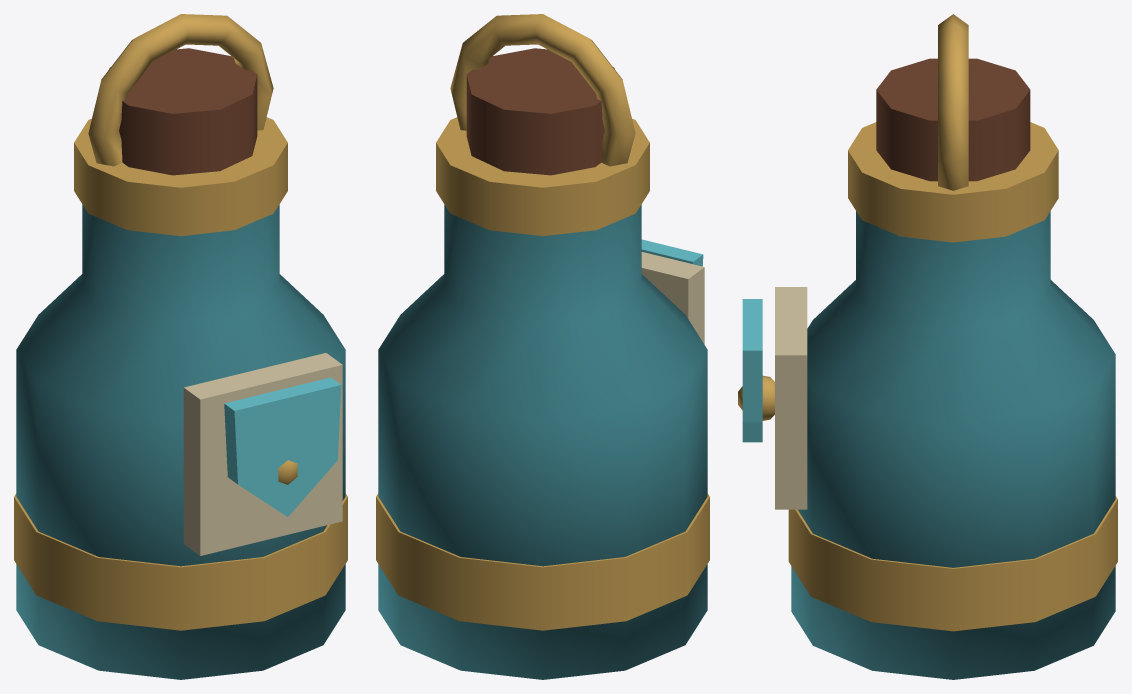
File: guard_tonic.fbx
3 views of the same model, side by side, from view 1: azimuth 30°, elevation 25°; view 2: azimuth 150°, elevation 25°; view 3: azimuth 270°, elevation 25° (orthographic).
Parts seen in each view (by area): view 1: guard_tonic; view 2: guard_tonic; view 3: guard_tonic.
Part boxes in pixels (bbox=[...]): guard_tonic: bbox=[14, 14, 347, 679]; guard_tonic: bbox=[376, 14, 709, 679]; guard_tonic: bbox=[738, 14, 1117, 679].
Bounding box in the file's own units: 0.406 × 0.8 × 0.4686.
